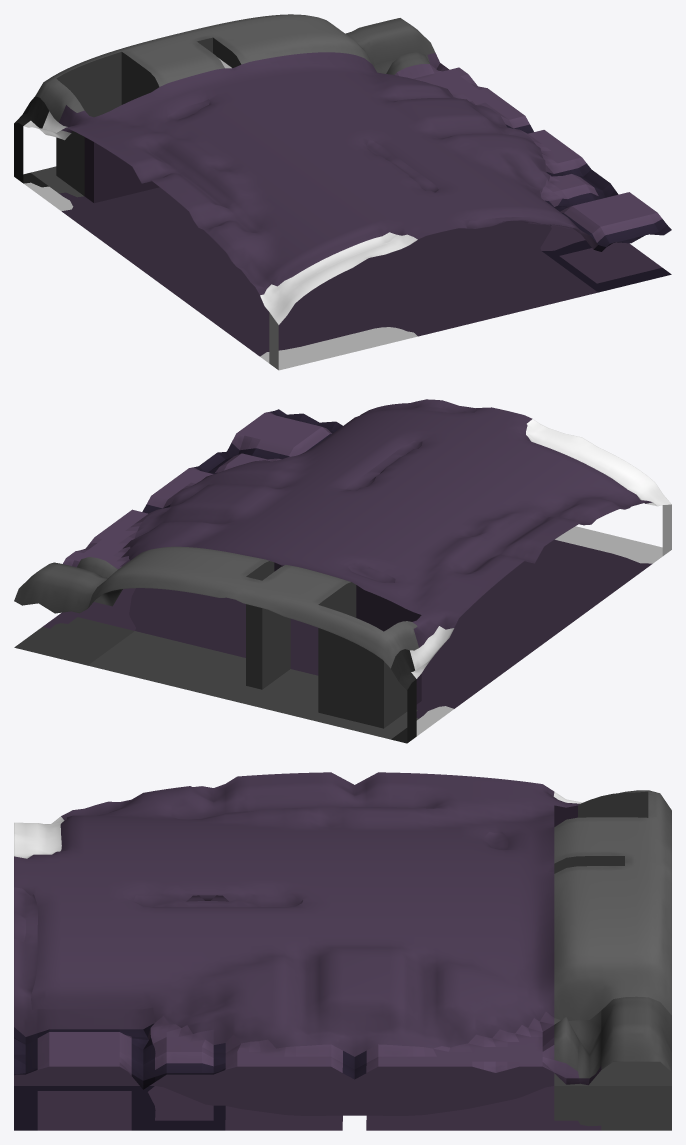
File: delbld-hull-593.glb
3 renders of one model, top to bottom at view 1: azimuth 30°, elevation 25°; view 2: azimuth 150°, elevation 25°; view 3: azimuth 270°, elevation 25°, orthographic. The views are drawn at different scales.
Parts seen in each view (by area): view 1: delbld-hull-593; view 2: delbld-hull-593; view 3: delbld-hull-593.
Boxes of the visible parts, x1,y1,x2,y2 form: delbld-hull-593: (14, 14, 671, 370); delbld-hull-593: (14, 399, 671, 743); delbld-hull-593: (14, 772, 671, 1130).
Bounding box in the file's own units: 2 × 0.5302 × 2.33.
Materials: 8 (8 with a texture image).
